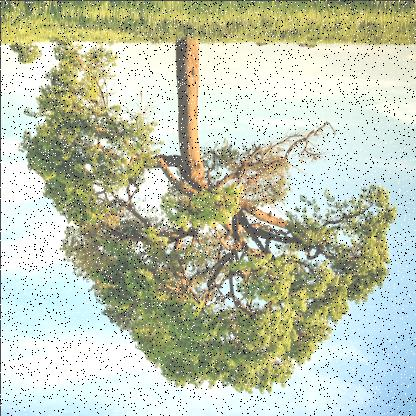Tree: (58, 35, 392, 394), (21, 36, 152, 246), (10, 41, 42, 75)
